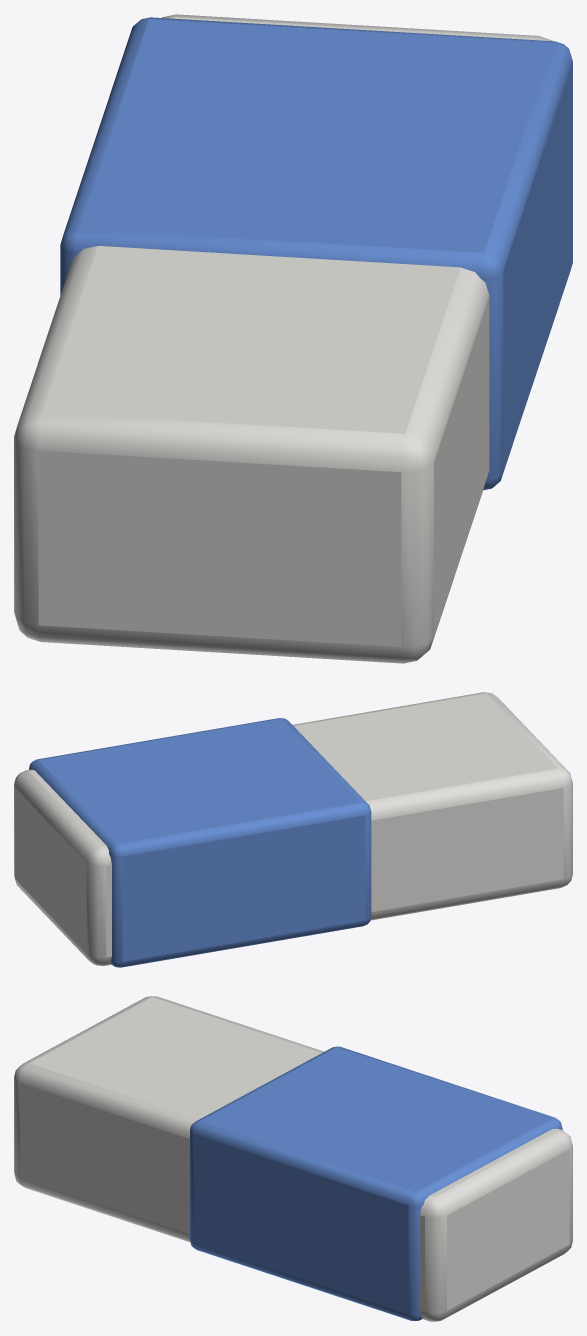
Rendered from eraser.glb.
3 renders of one model, top to bottom at view 1: azimuth 30°, elevation 25°; view 2: azimuth 150°, elevation 25°; view 3: azimuth 270°, elevation 25°, orthographic. The views are drawn at different scales.
Visible parts, largest first — view 1: er_block, er_sleeve; view 2: er_sleeve, er_block; view 3: er_block, er_sleeve.
Part boxes in pixels (bbox=[...]): er_block: bbox=[14, 14, 552, 663]; er_sleeve: bbox=[60, 17, 572, 490]; er_sleeve: bbox=[29, 718, 371, 967]; er_block: bbox=[14, 692, 572, 965]; er_block: bbox=[14, 996, 572, 1321]; er_sleeve: bbox=[190, 1046, 562, 1320].
Size of the model in its own units: 0.0481 by 0.0135 by 0.0533.
